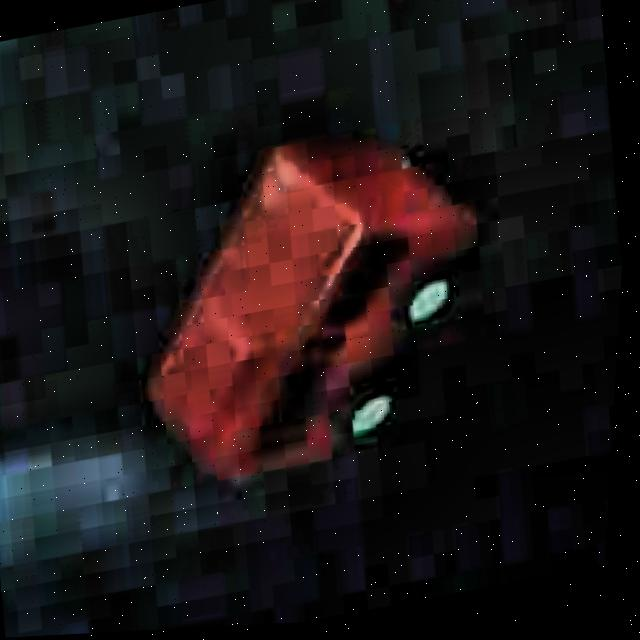bus: (98, 99, 534, 508)
